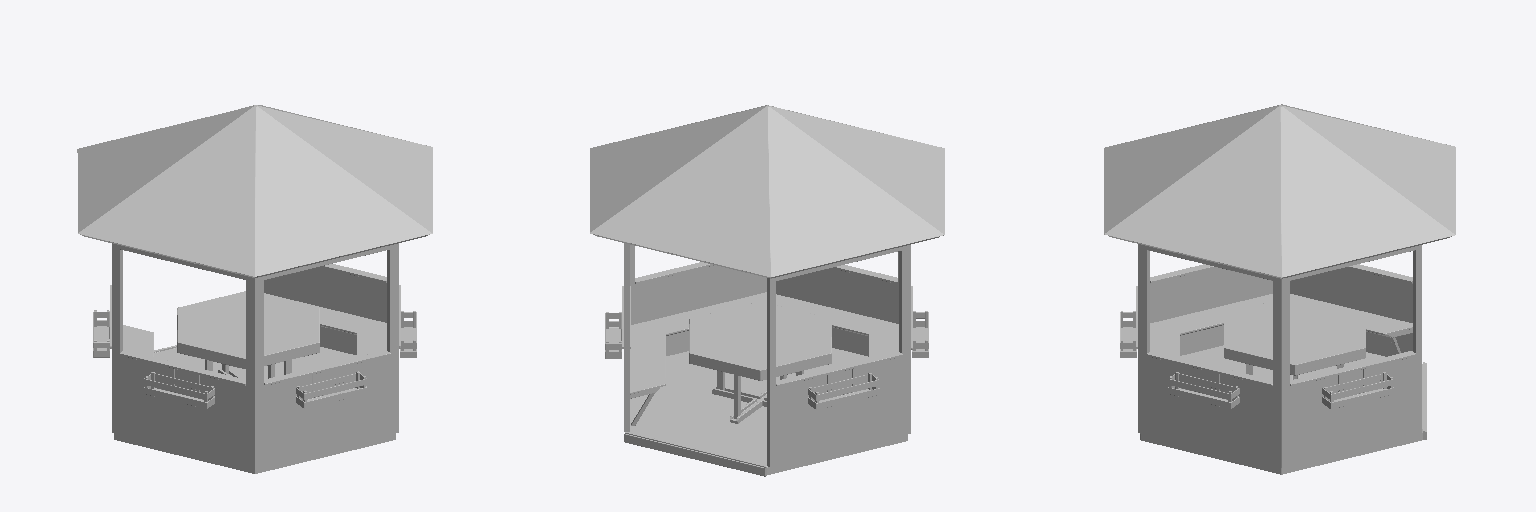
Rendered from kiosco.obj.
3 views of the same model, side by side, from view 1: azimuth 30°, elevation 25°; view 2: azimuth 150°, elevation 25°; view 3: azimuth 270°, elevation 25° (orthographic).
Visible parts, largest first — view 1: Arbour_table_Material.003, Arbour_table_Material.002, Arbour_table_Material.001, Arbour_table_Material; view 2: Arbour_table_Material.003, Arbour_table_Material.002, Arbour_table_Material, Arbour_table_Material.001; view 3: Arbour_table_Material.003, Arbour_table_Material.002, Arbour_table_Material.001, Arbour_table_Material.
Boxes of the visible parts, box(x1,y1,x2,y2) form: Arbour_table_Material.003: box(78, 106, 432, 466); Arbour_table_Material.002: box(77, 105, 432, 378); Arbour_table_Material.001: box(93, 310, 416, 408); Arbour_table_Material: box(114, 345, 395, 473); Arbour_table_Material.003: box(590, 107, 944, 467); Arbour_table_Material.002: box(590, 105, 944, 427); Arbour_table_Material: box(624, 348, 907, 476); Arbour_table_Material.001: box(605, 311, 928, 409); Arbour_table_Material.003: box(1104, 106, 1455, 467); Arbour_table_Material.002: box(1104, 104, 1455, 379); Arbour_table_Material.001: box(1120, 311, 1393, 408); Arbour_table_Material: box(1140, 345, 1426, 474).
Size of the model in its own units: 3.5 by 2.82 by 3.